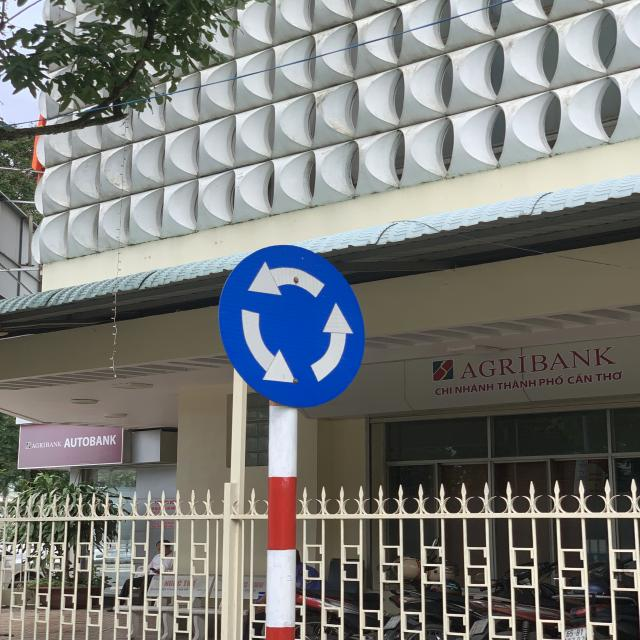Xe_Bus: (220, 244, 366, 410)
